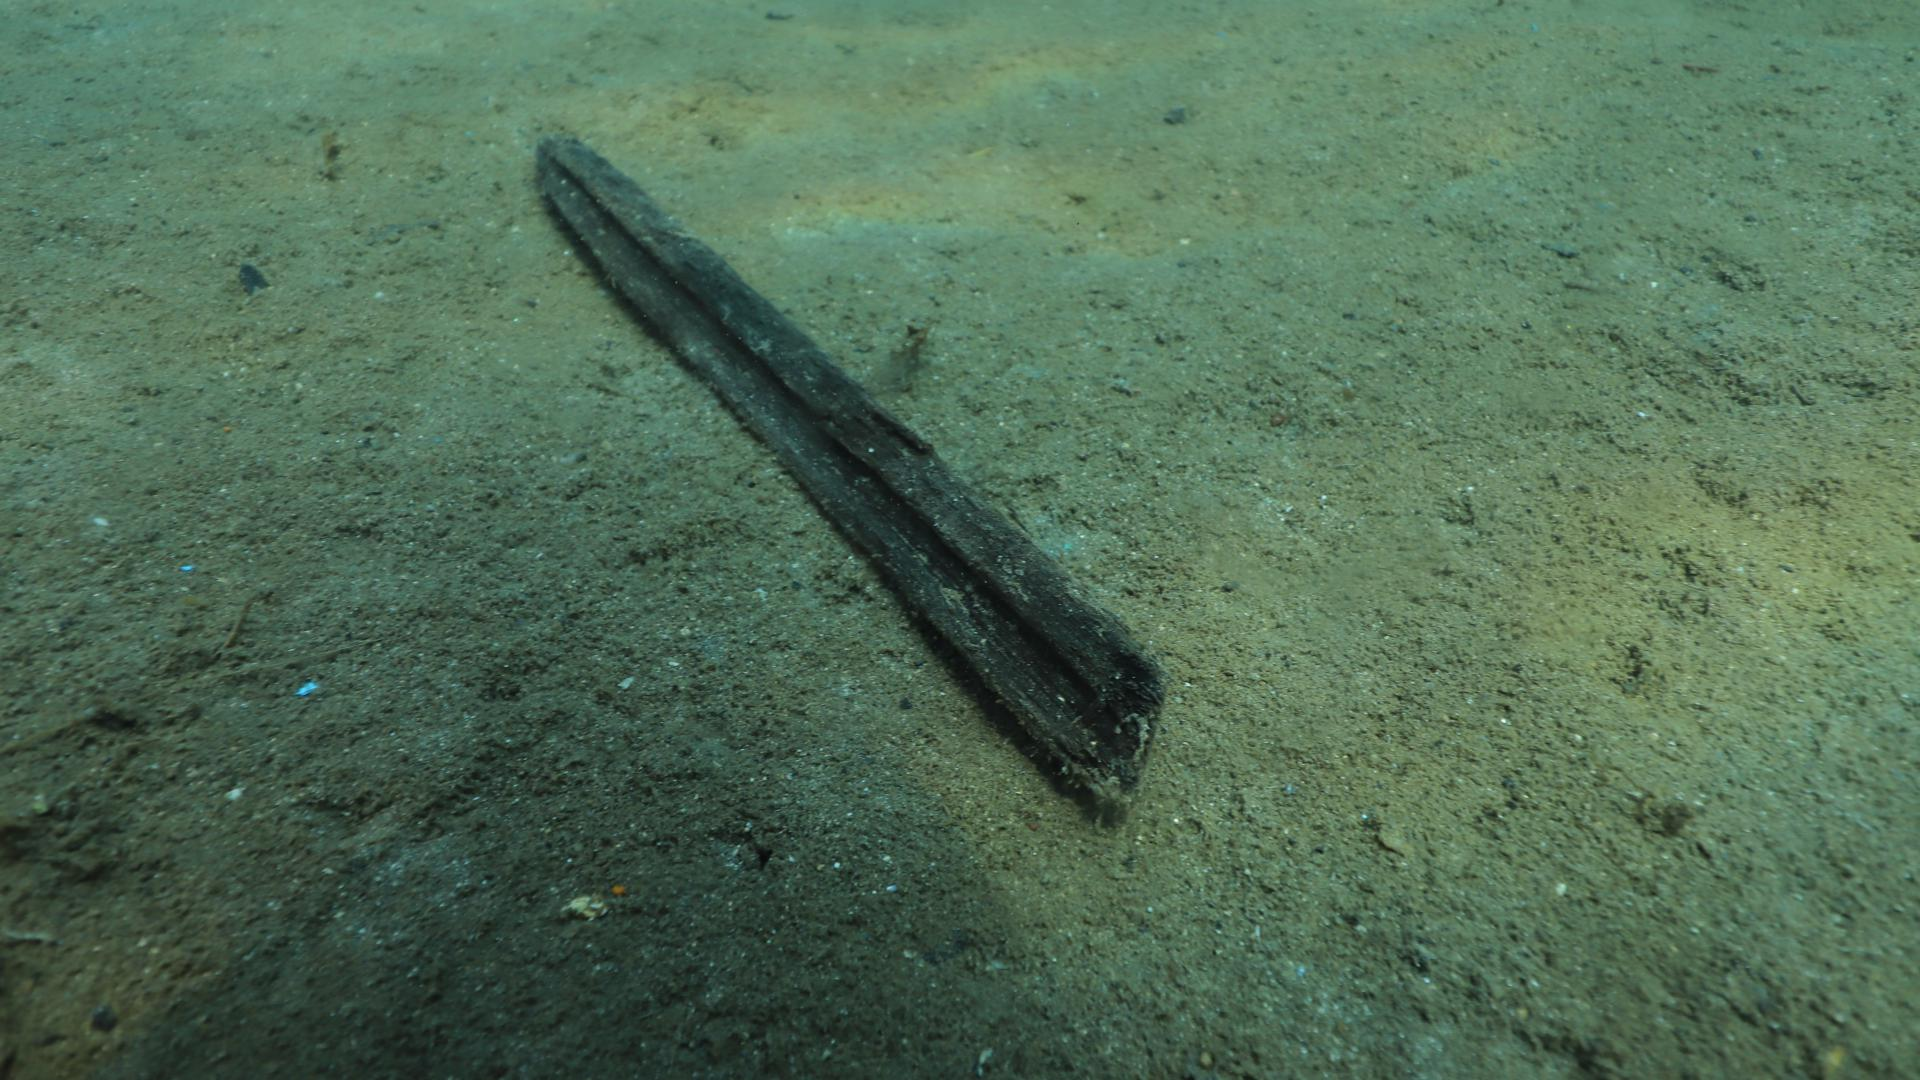wood: (533, 127, 1168, 824)
